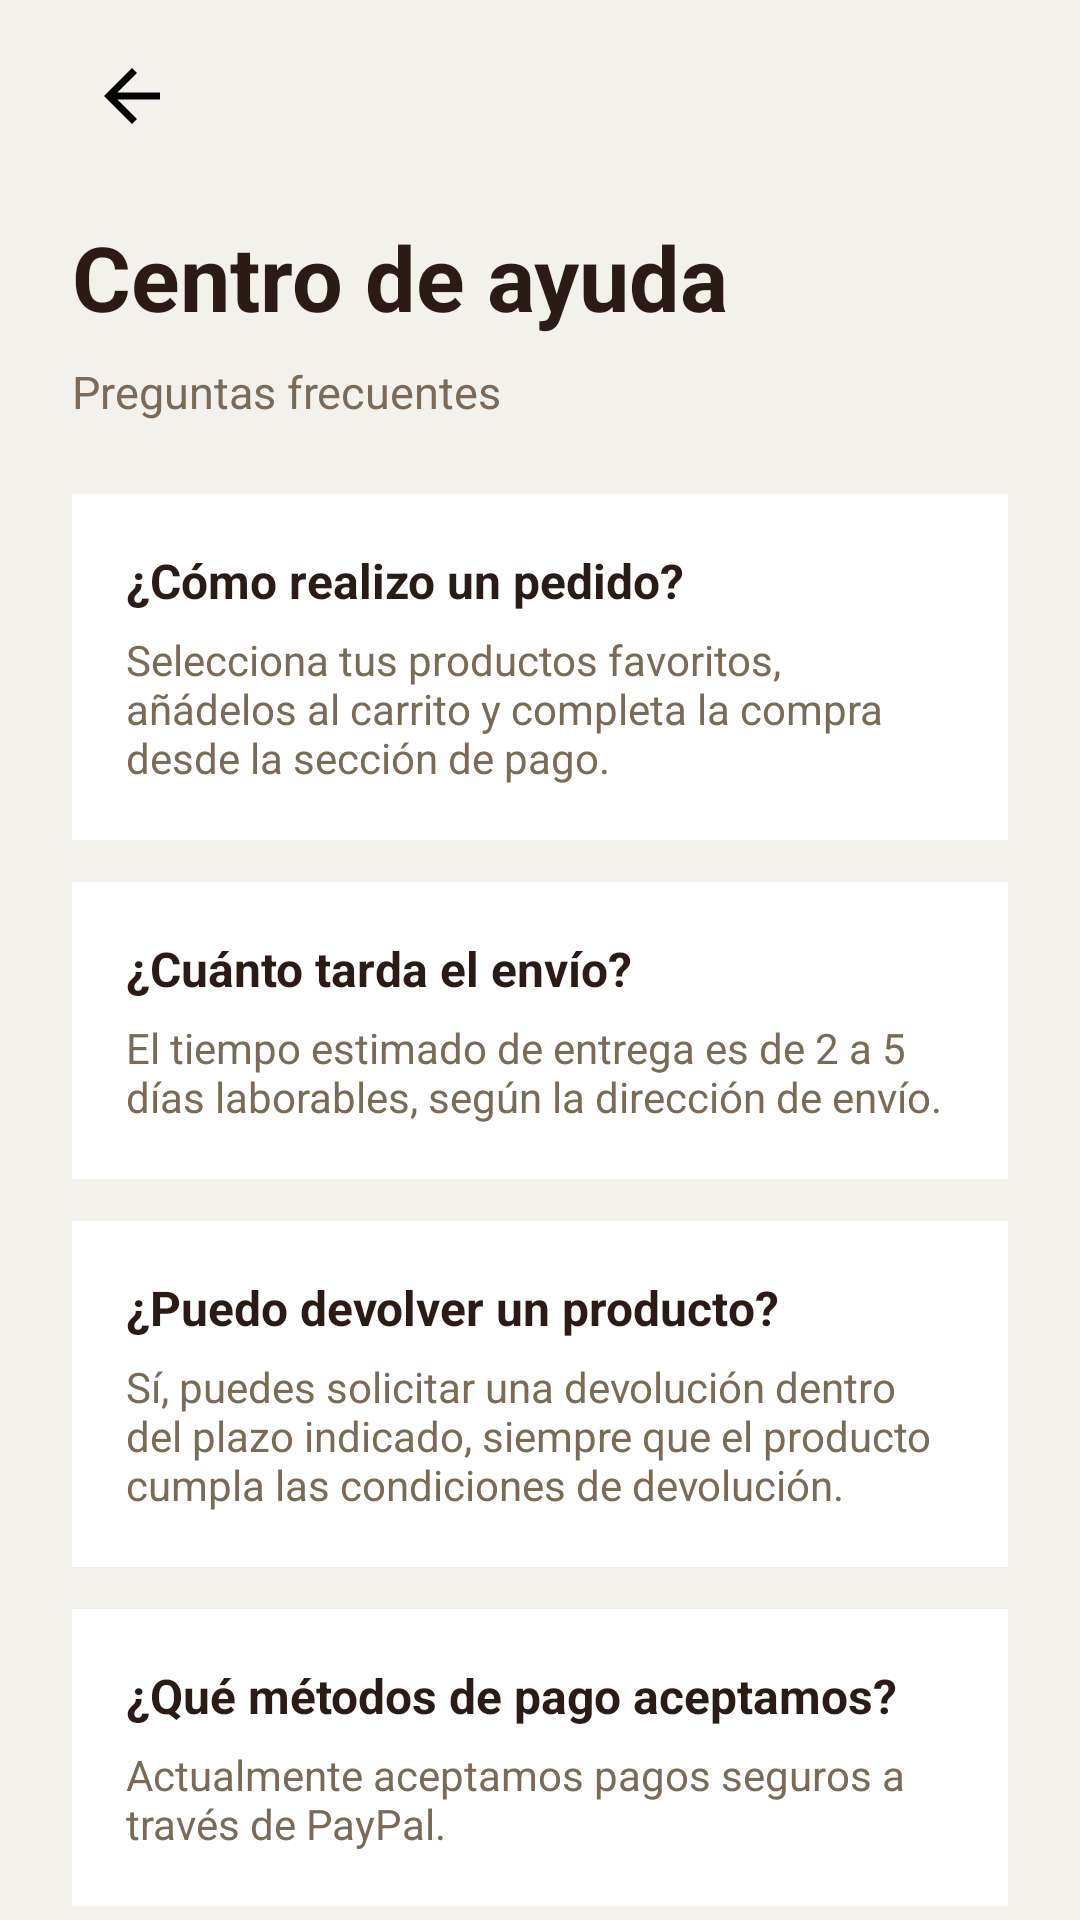

Named icons in this screenshot (1080 x 1920) and their centers, (x,y):
Volver: (132,96)
